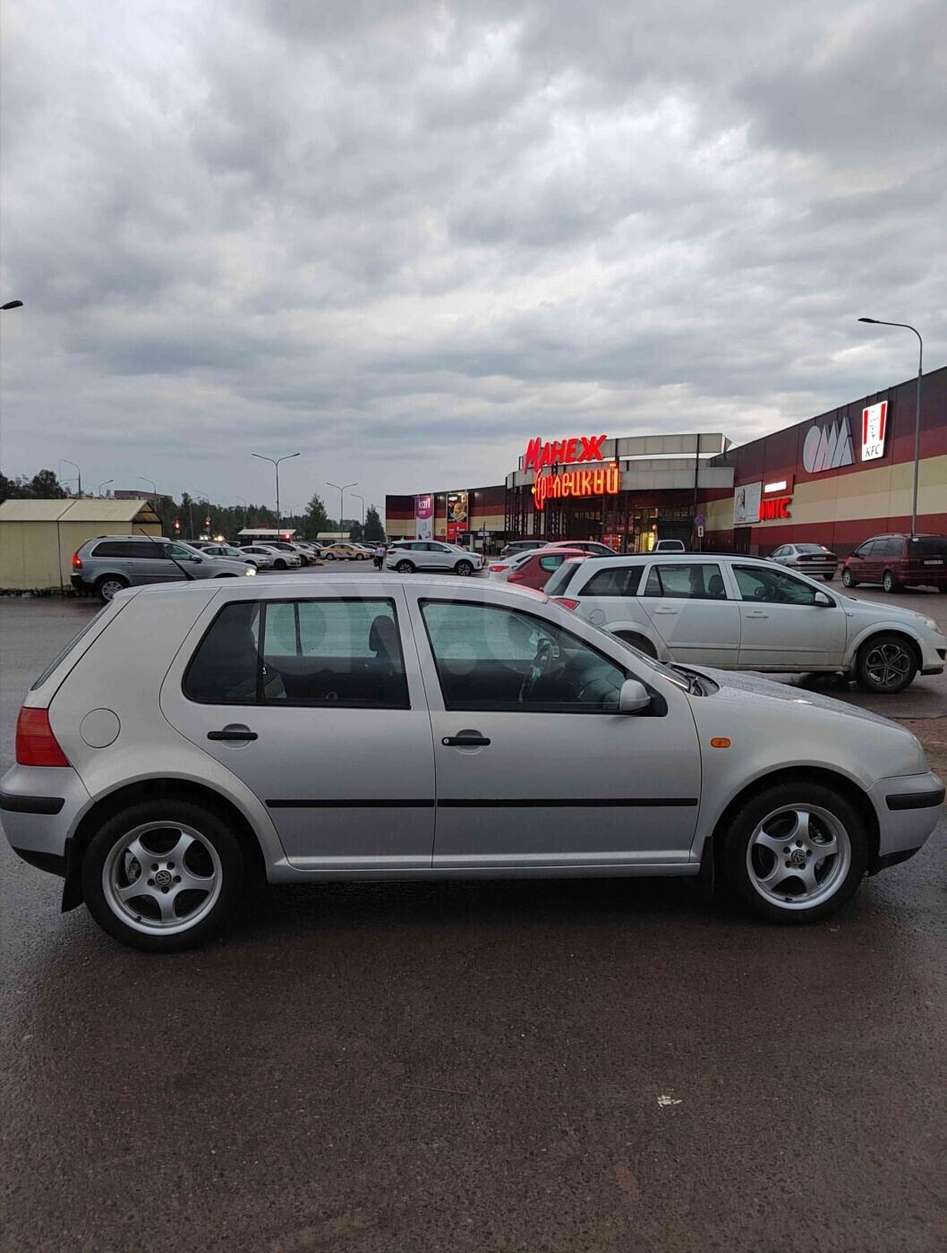Golf_1997-2006: (0, 562, 947, 956)
